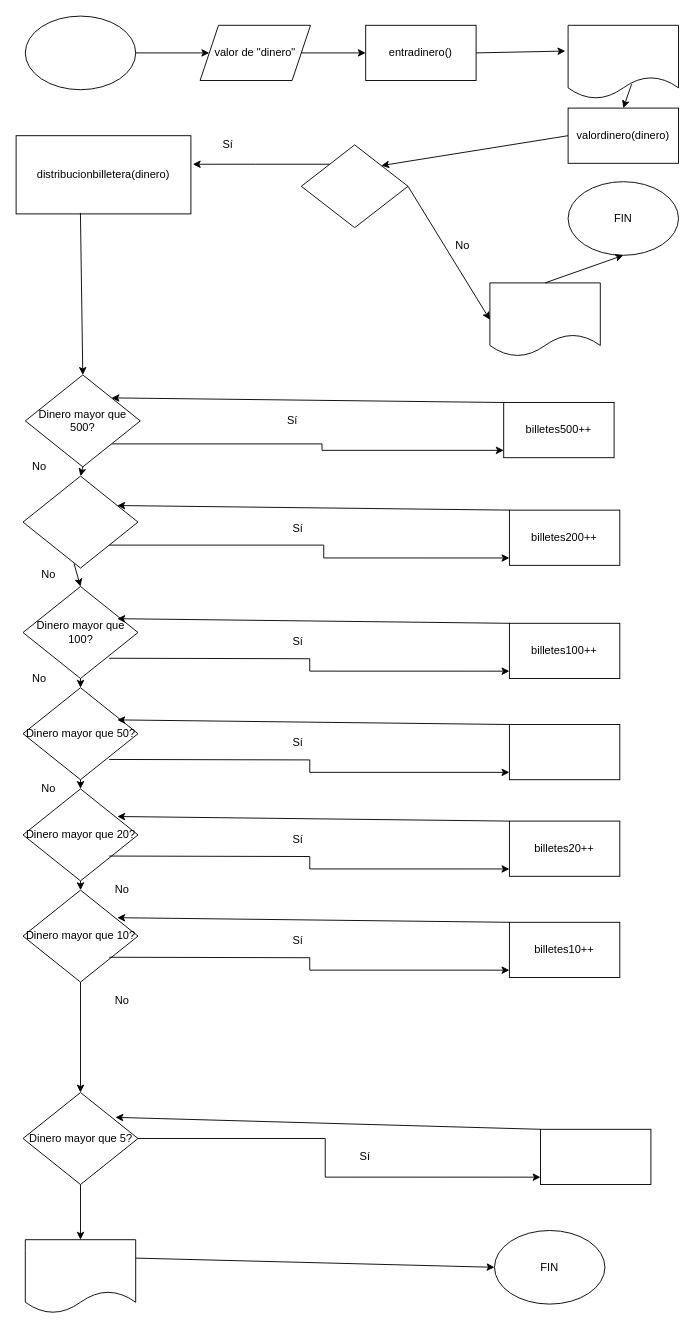
Image size: 695x1329. Some labels were removed from this diagram. The centre of each missing label's shape, as x and y in pixels:
"Lo sentimos": the point at 544,319
billetes5++: the point at 595,1156
billetes50++: the point at 564,752
Conteo y salida de billetes: the point at 80,1276
dinero (integer): the point at 622,61
Dinero mayor que 200?: the point at 80,521
INICIO: the point at 80,52
¿Es el dinero múltiplo de 5?: the point at 354,186
